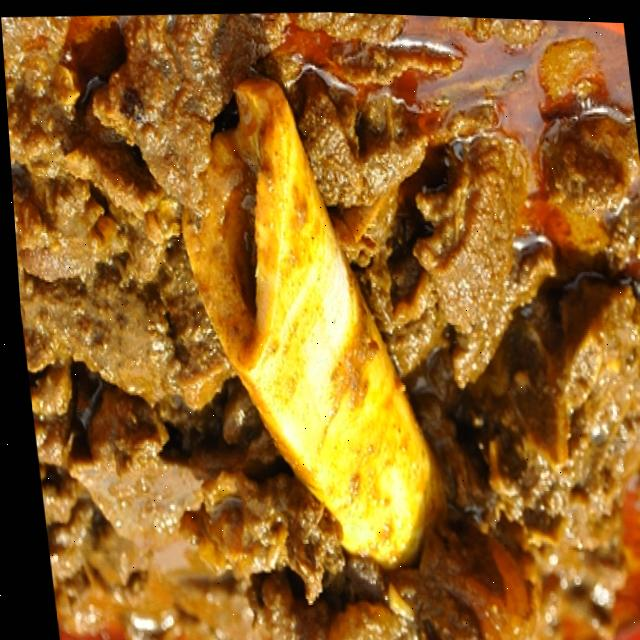熟制海鲜: (1, 14, 640, 640)
